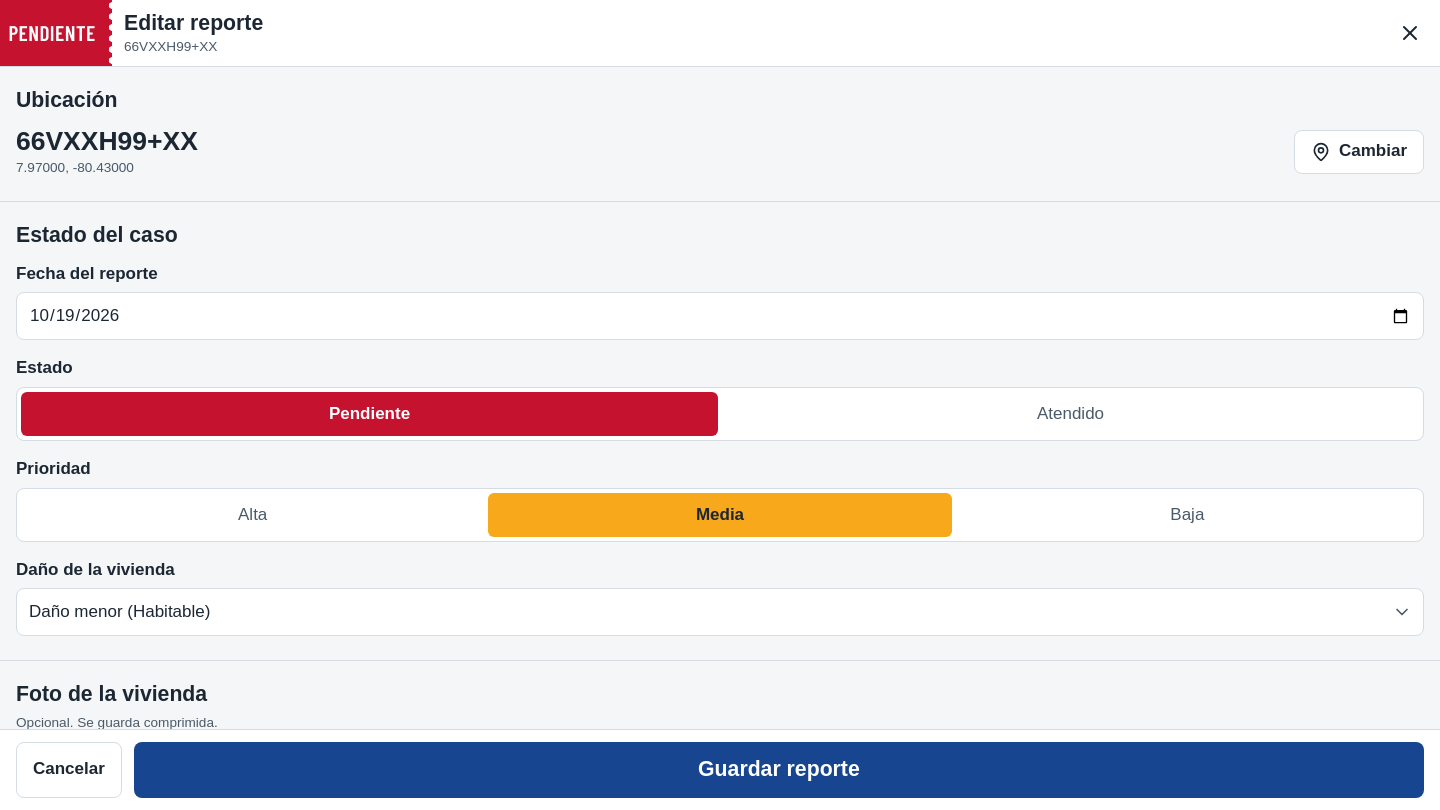
ReportForm: edición › cambio de ubicación y de ambos
What coordinates should you click on to do the following:
click the button "Guardar reporte"
I would click on:
 (779, 770)
Its box is [134,742,1424,798].
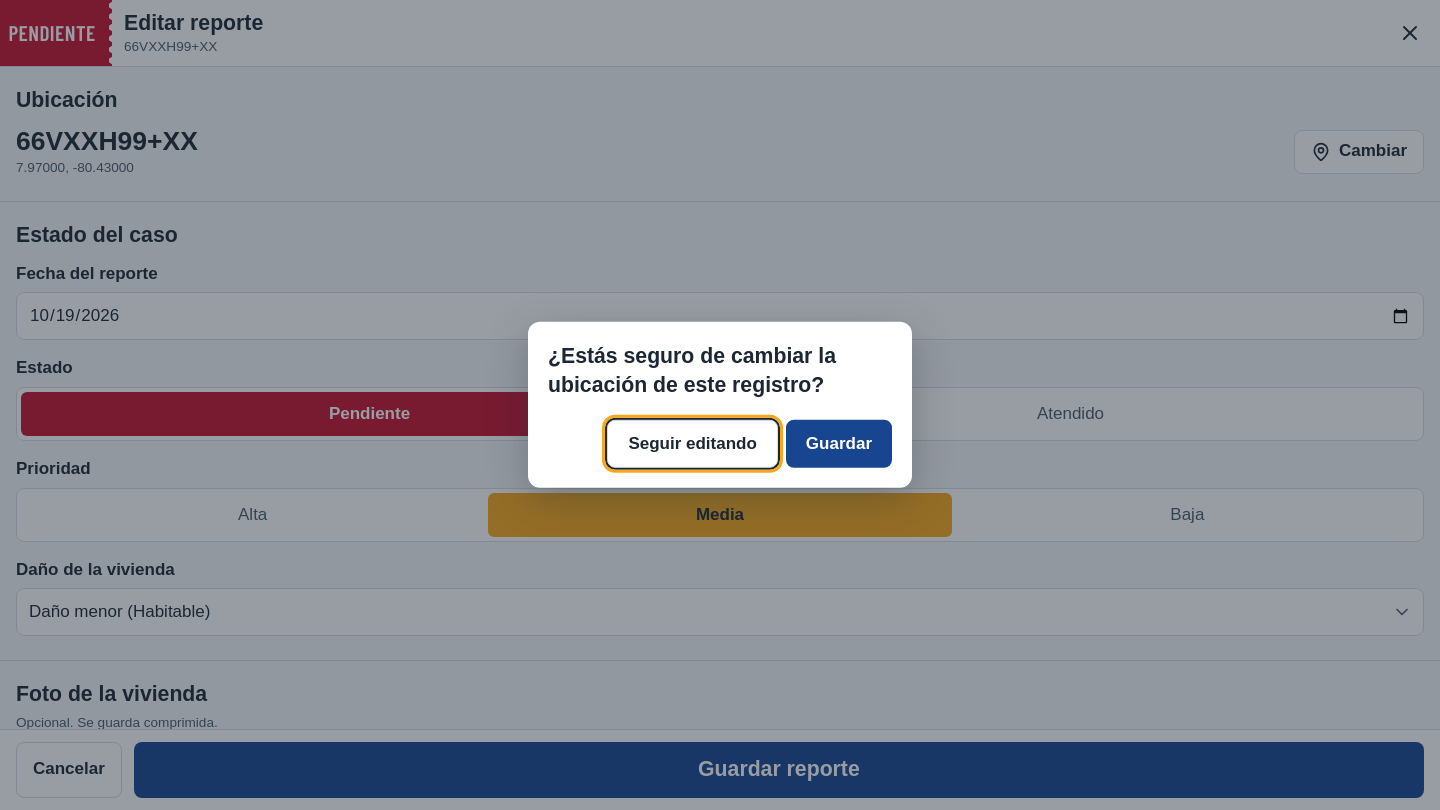
Expected: the dialog shows "¿Estás seguro de cambiar la ubicación de este registro?", [548,344,836,397]
What coordinates should you click on to do the following:
click the button "Seguir editando"
I would click on:
 (693, 444)
Its box is [607,420,778,468].
(page scrolled)
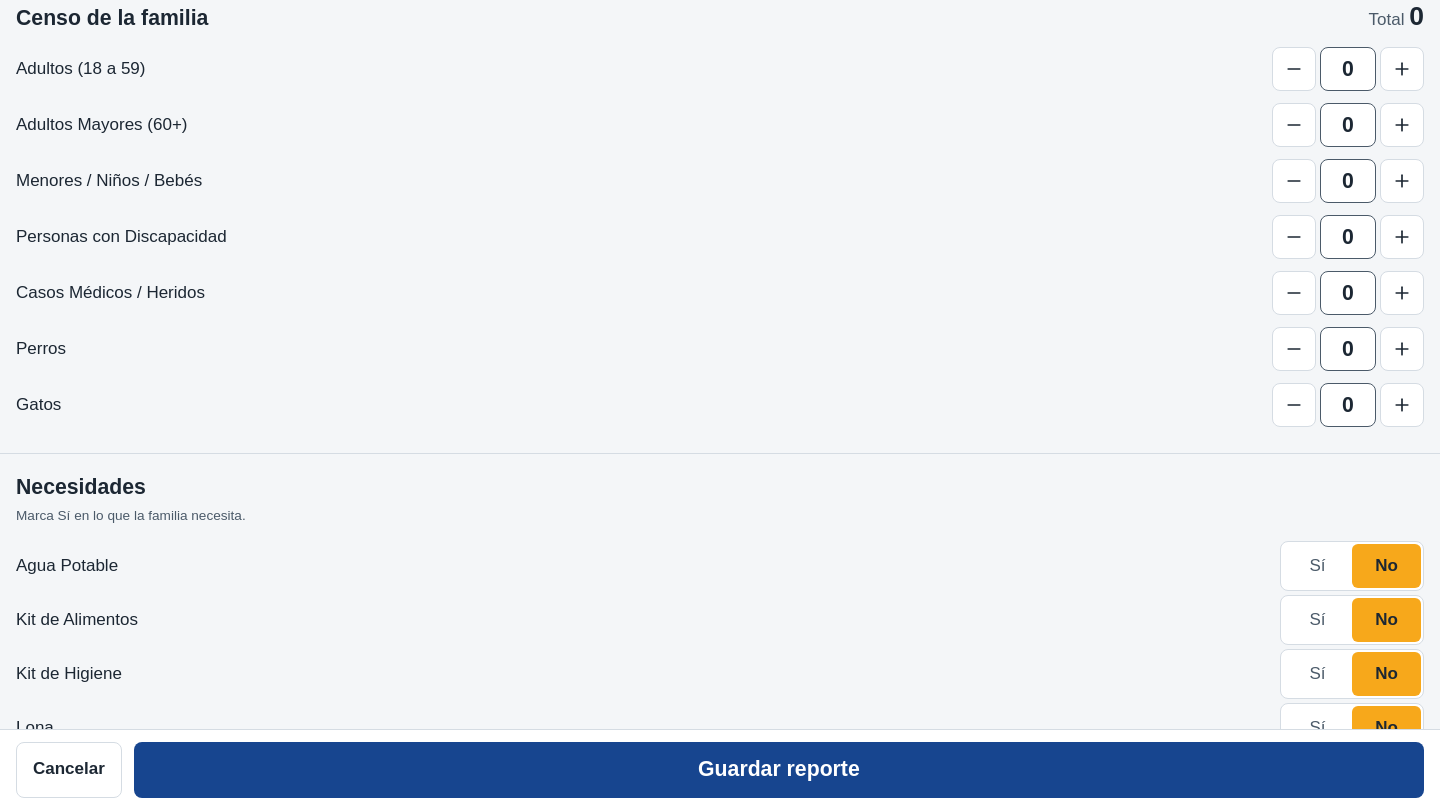
What coordinates should you click on to do the following:
click the button named "Sumar uno: Gatos"
I would click on:
 (1402, 405)
Its box is [1380,383,1424,427].
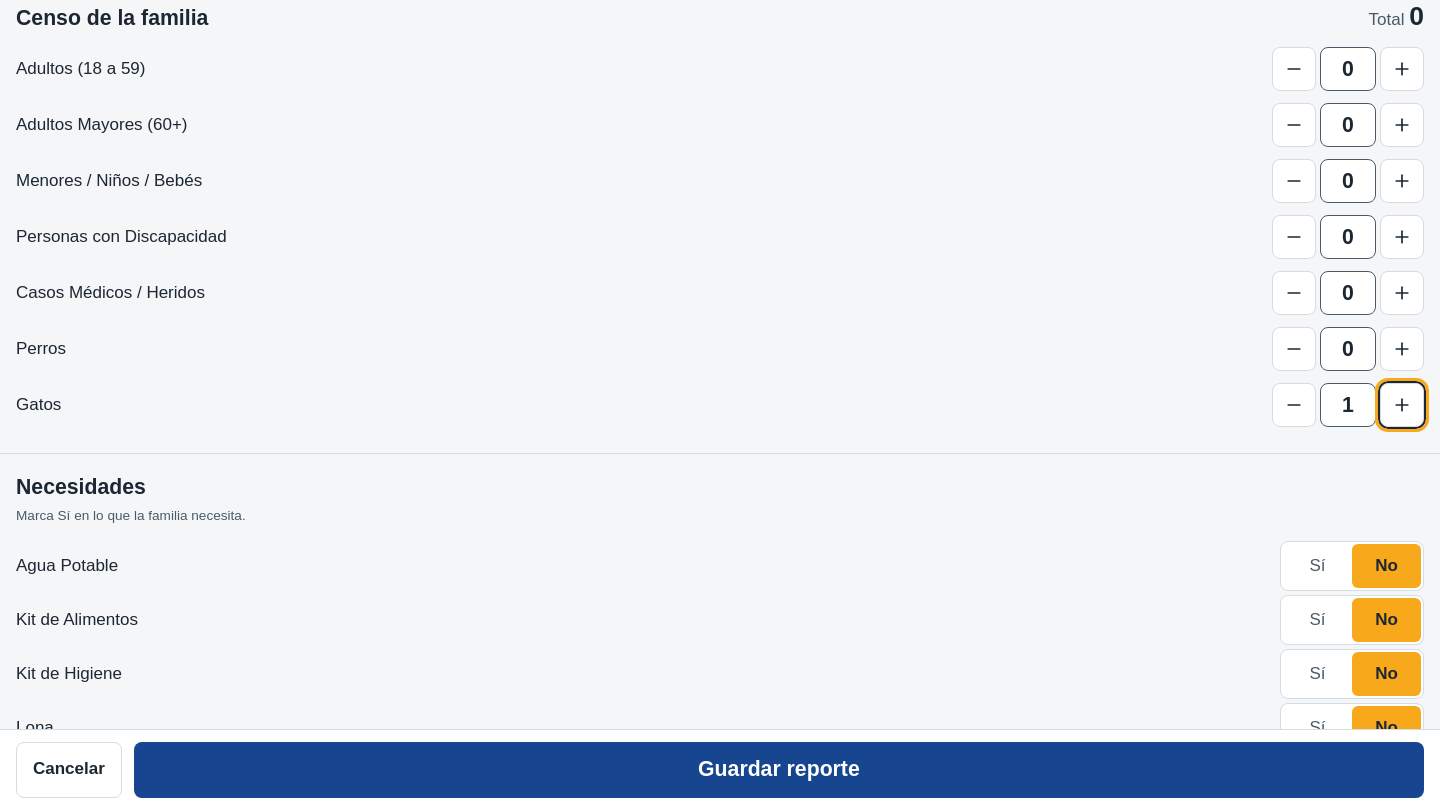
What coordinates should you click on to do the following:
click the button "Guardar reporte"
I would click on:
 (779, 770)
Its box is [134,742,1424,798].
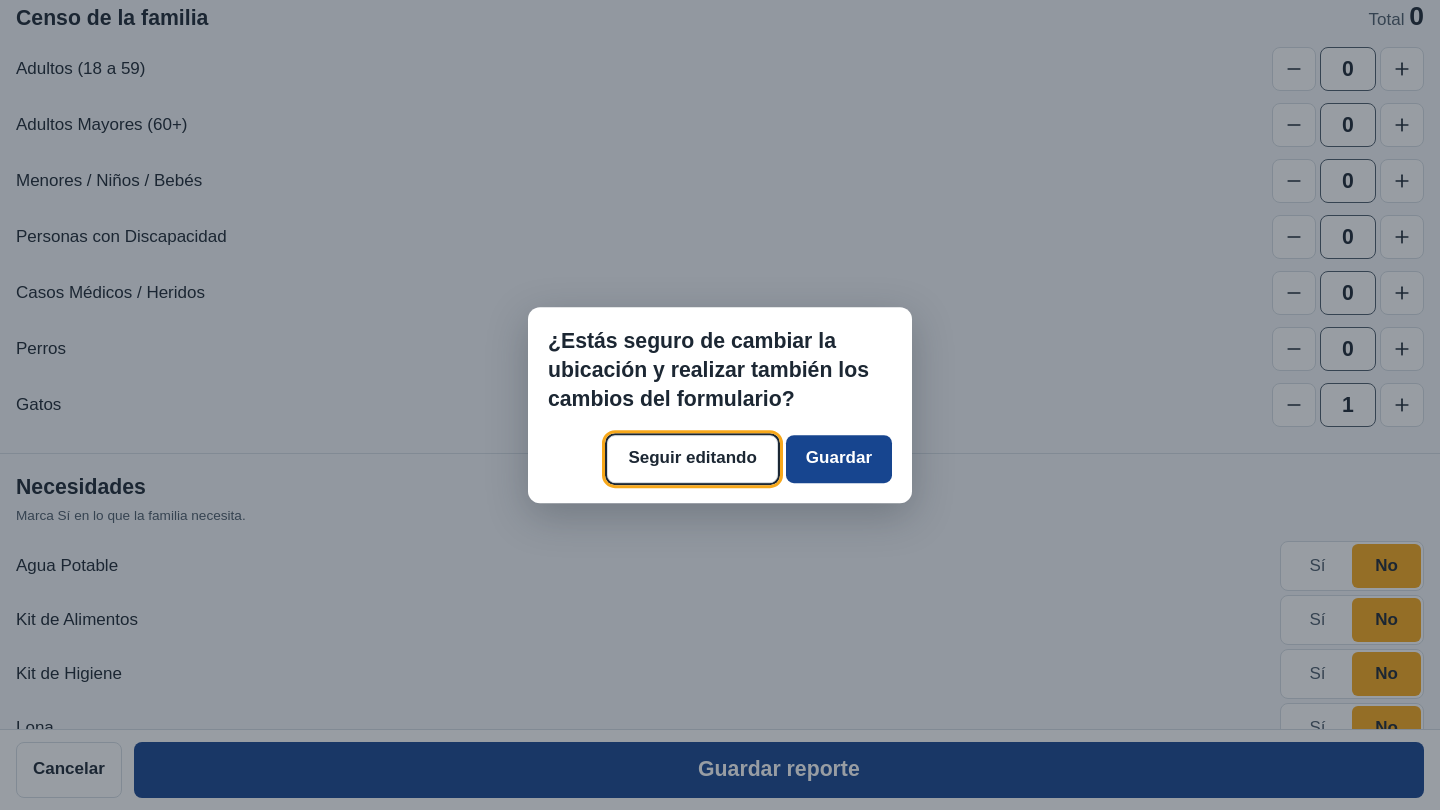
Expected: the dialog shows "¿Estás seguro de cambiar la ubicación y realizar también los cambios del formulario?", [548,329,869,412]
